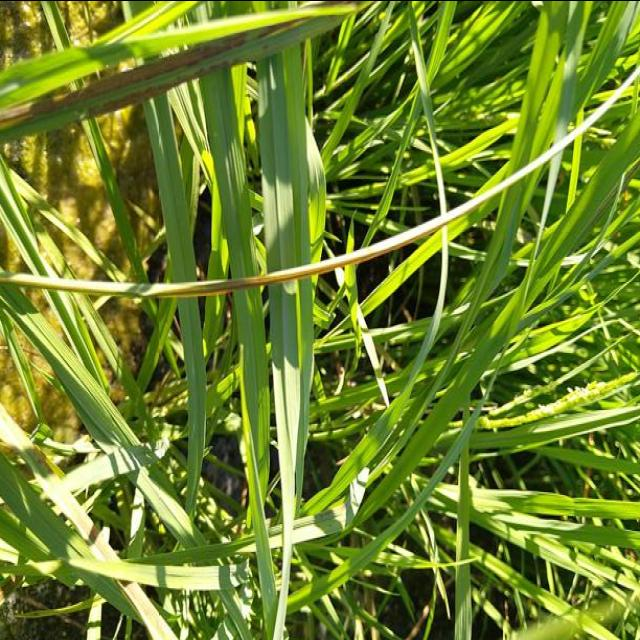Leaf Blight: (0, 59, 640, 296)
Leaf Streak: (0, 15, 346, 142), (300, 0, 360, 6)
